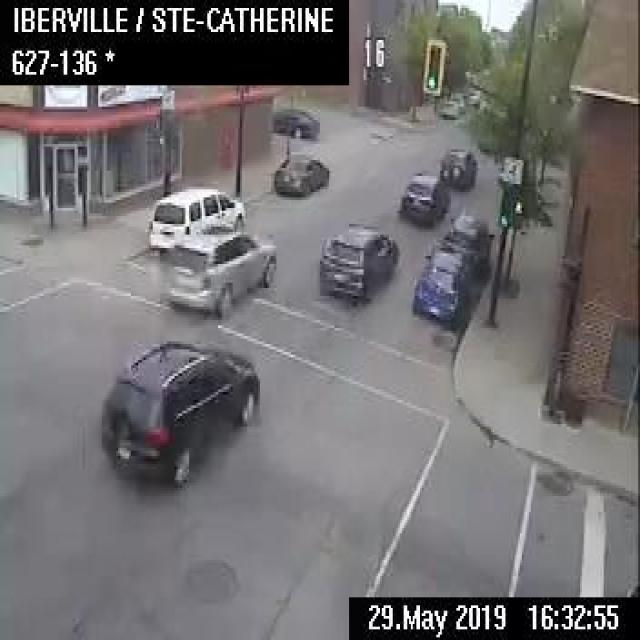vehicle: (96, 336, 262, 485), (166, 230, 275, 317), (147, 187, 246, 256), (316, 221, 398, 299), (410, 242, 474, 322), (439, 212, 494, 275), (397, 169, 449, 223), (271, 152, 329, 194), (439, 146, 475, 189), (270, 107, 319, 137), (460, 86, 480, 107), (434, 98, 456, 117), (446, 90, 464, 110)
